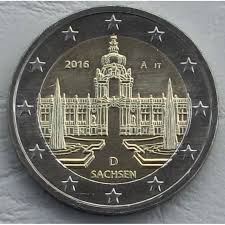eur002: (7, 4, 217, 219)
